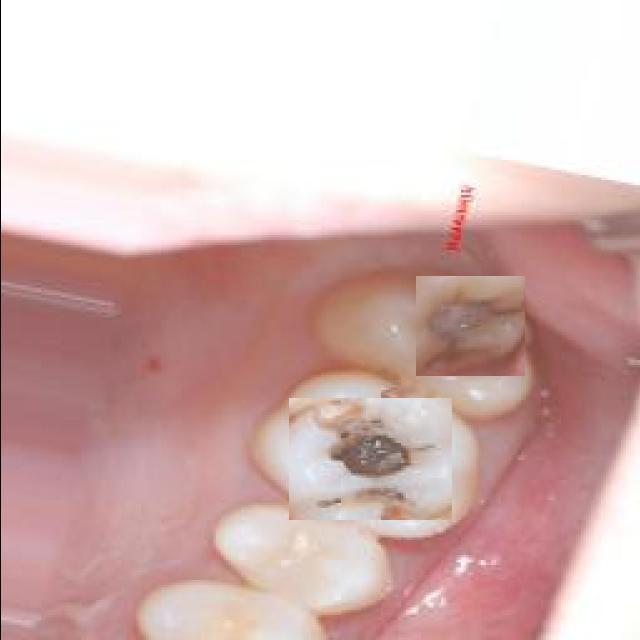caries: (288, 398, 451, 520), (415, 276, 524, 376)
